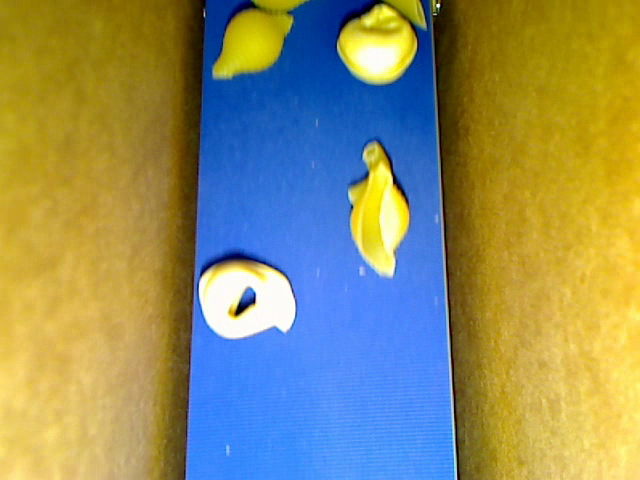elbow: (348, 140, 390, 205)
penne: (382, 1, 425, 30)
shell: (347, 160, 409, 278), (212, 9, 293, 79)
tortellini: (197, 258, 297, 340), (337, 4, 416, 84)
